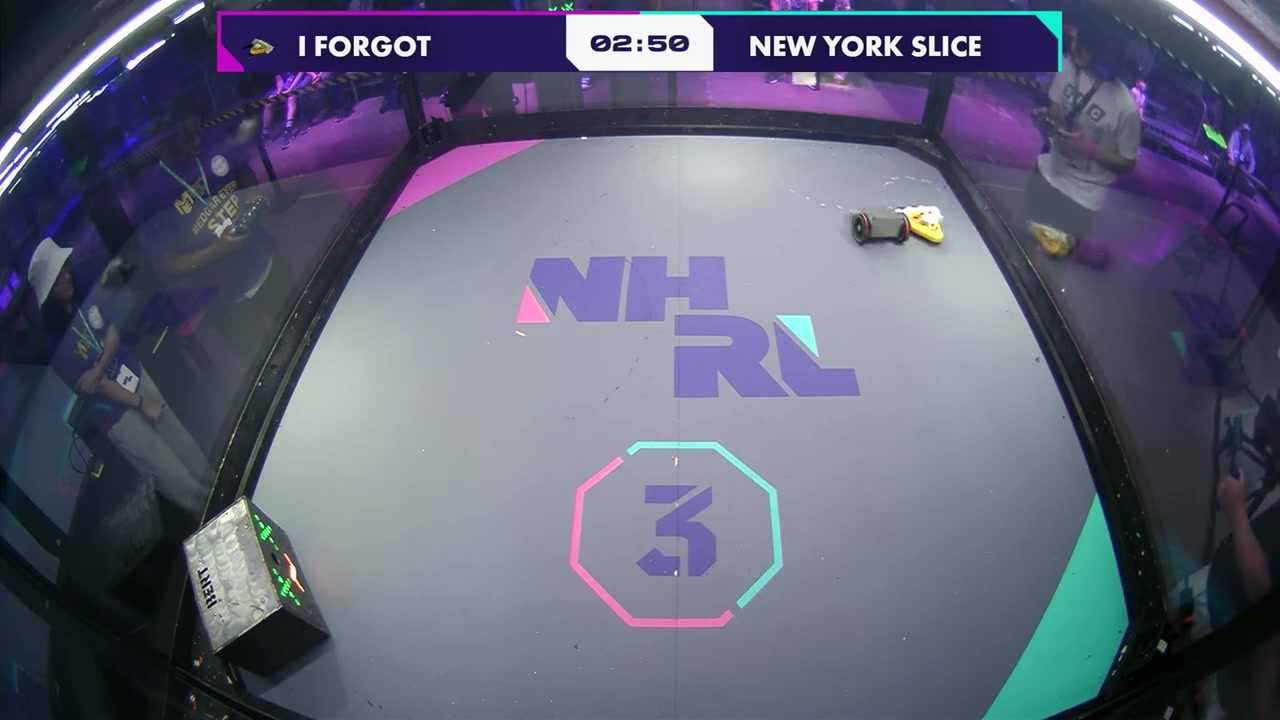combatbot: (847, 208, 909, 251), (901, 206, 946, 249)
housebot: (183, 498, 328, 678)
